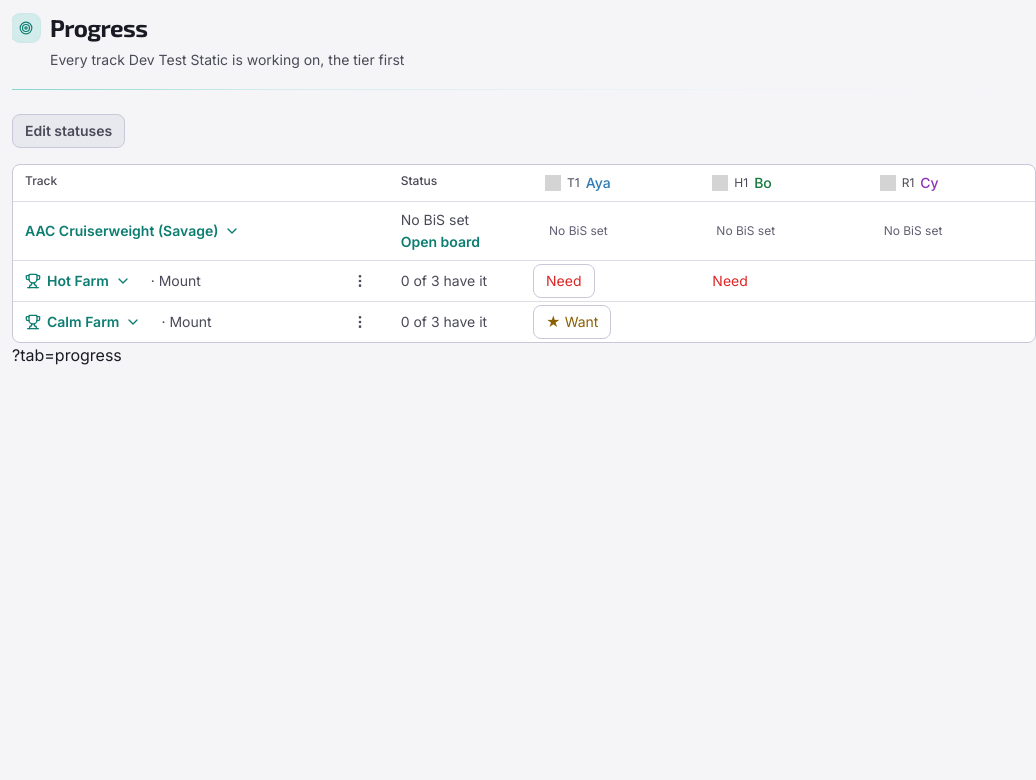
Test: ProgressPage tier row with split clears on › the tier name is a disclosure that opens the planner right after the row, written in place, and closes again
Click the button "AAC Cruiserweight (Savage)" at (133, 231), box [13,215,252,247]
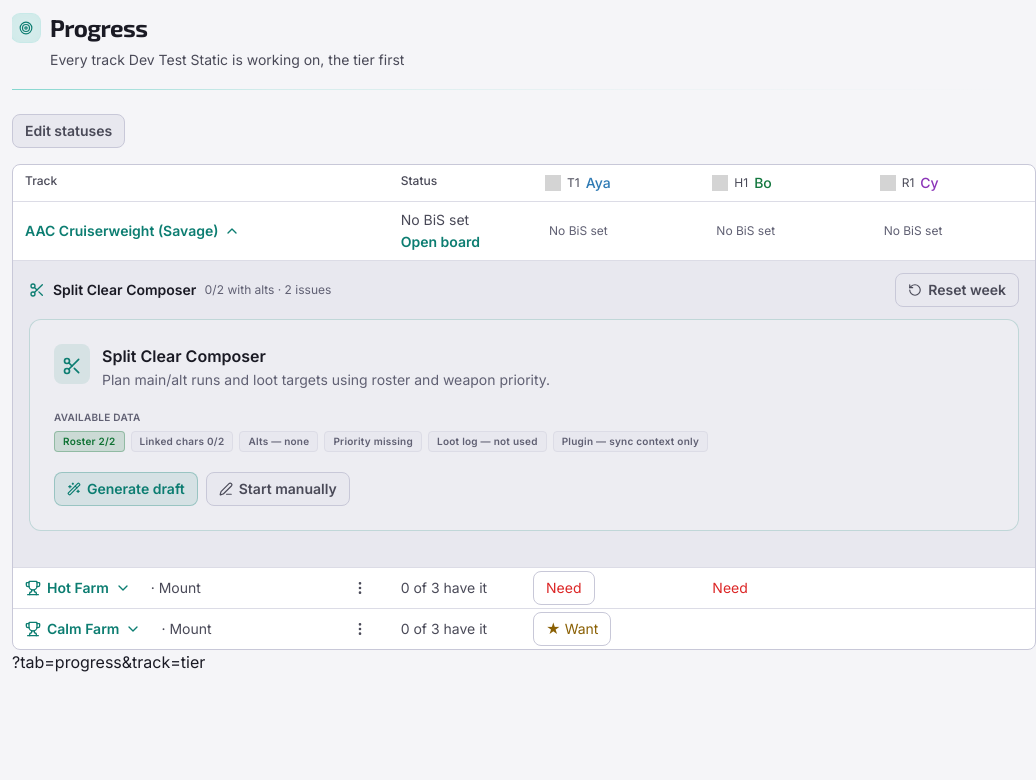
expect the button "AAC Cruiserweight (Savage)" is expanded: met
expect the heading "Split Clear Composer" is shown: met, box [102,346,266,366]
expect the button with aria-label "Generate draft plan" is shown: met, box [54,472,198,506]
Click the button "AAC Cruiserweight (Savage)" at (133, 231), box [13,215,252,247]
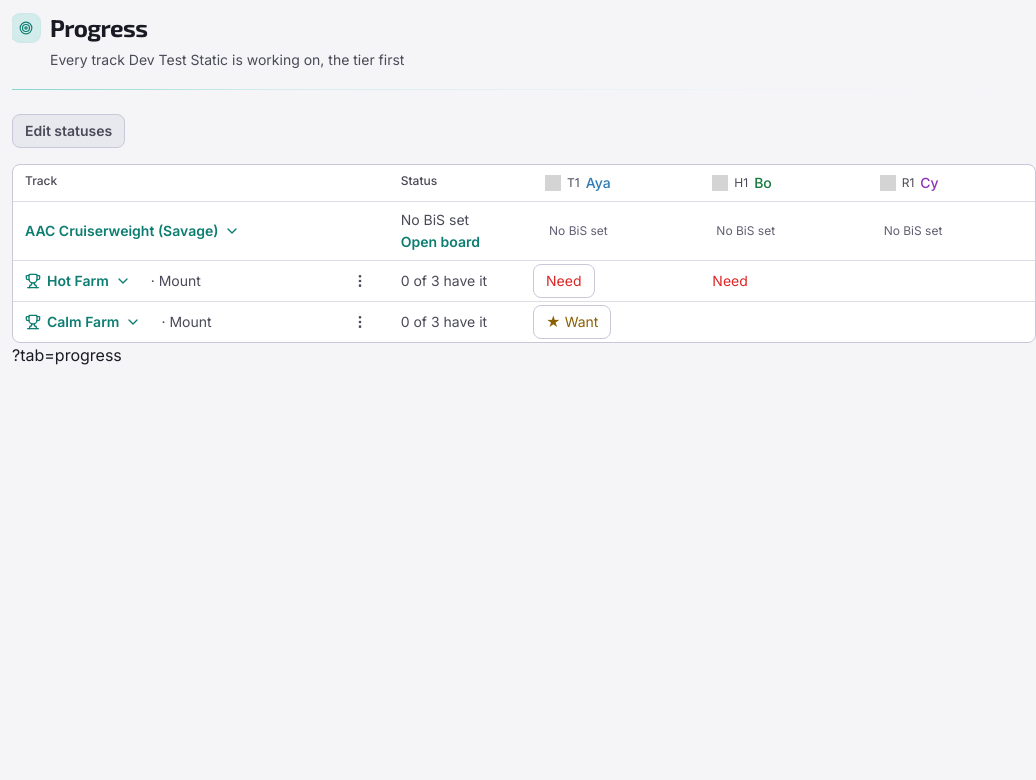
expect the button "AAC Cruiserweight (Savage)" is collapsed: met, box [13,215,252,247]
